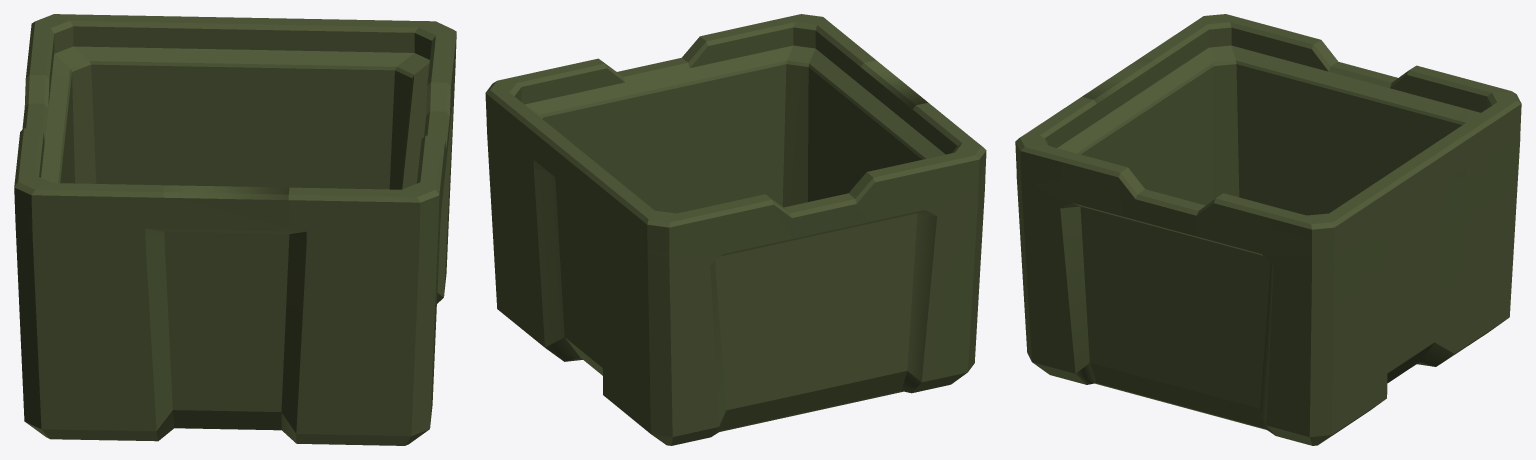
The model's file is caixa_1_corpo.glb.
The picture shows the model from 3 angles, left to right: view 1: azimuth 30°, elevation 25°; view 2: azimuth 150°, elevation 25°; view 3: azimuth 270°, elevation 25°; orthographic projection. The views are drawn at different scales.
Parts seen in each view (by area): view 1: SM_WeaponCrate_01_B; view 2: SM_WeaponCrate_01_B; view 3: SM_WeaponCrate_01_B.
Boxes of the visible parts, x1,y1,x2,y2 form: SM_WeaponCrate_01_B: [14, 14, 456, 445]; SM_WeaponCrate_01_B: [485, 14, 986, 445]; SM_WeaponCrate_01_B: [1015, 14, 1521, 445].
Size of the model in its own units: 0.5453 by 0.2778 by 0.5448.
